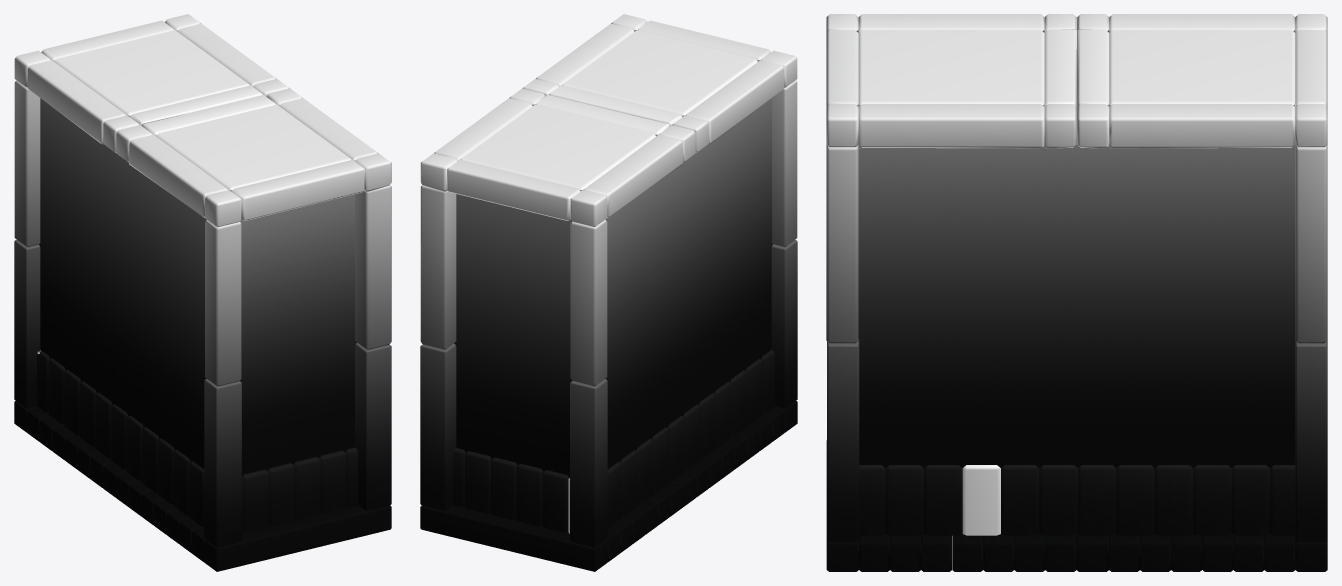
Rendered from SM_Wood_Body_03.fbx.
3 views of the same model, side by side, from view 1: azimuth 30°, elevation 25°; view 2: azimuth 150°, elevation 25°; view 3: azimuth 270°, elevation 25° (orthographic). The views are drawn at different scales.
Visible parts, largest first — view 1: SM_Wood_Body_03; view 2: SM_Wood_Body_03; view 3: SM_Wood_Body_03.
Part boxes in pixels (<box>): SM_Wood_Body_03: <box>14,14,391,571</box>; SM_Wood_Body_03: <box>420,14,797,571</box>; SM_Wood_Body_03: <box>826,14,1327,571</box>.
Bounding box in the file's own units: 2 × 4 × 4.
